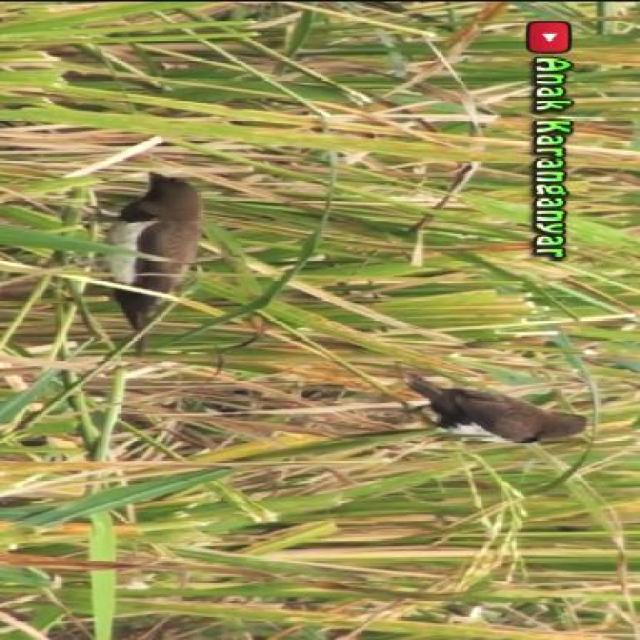Bird: (98, 161, 214, 359), (396, 355, 600, 453)
